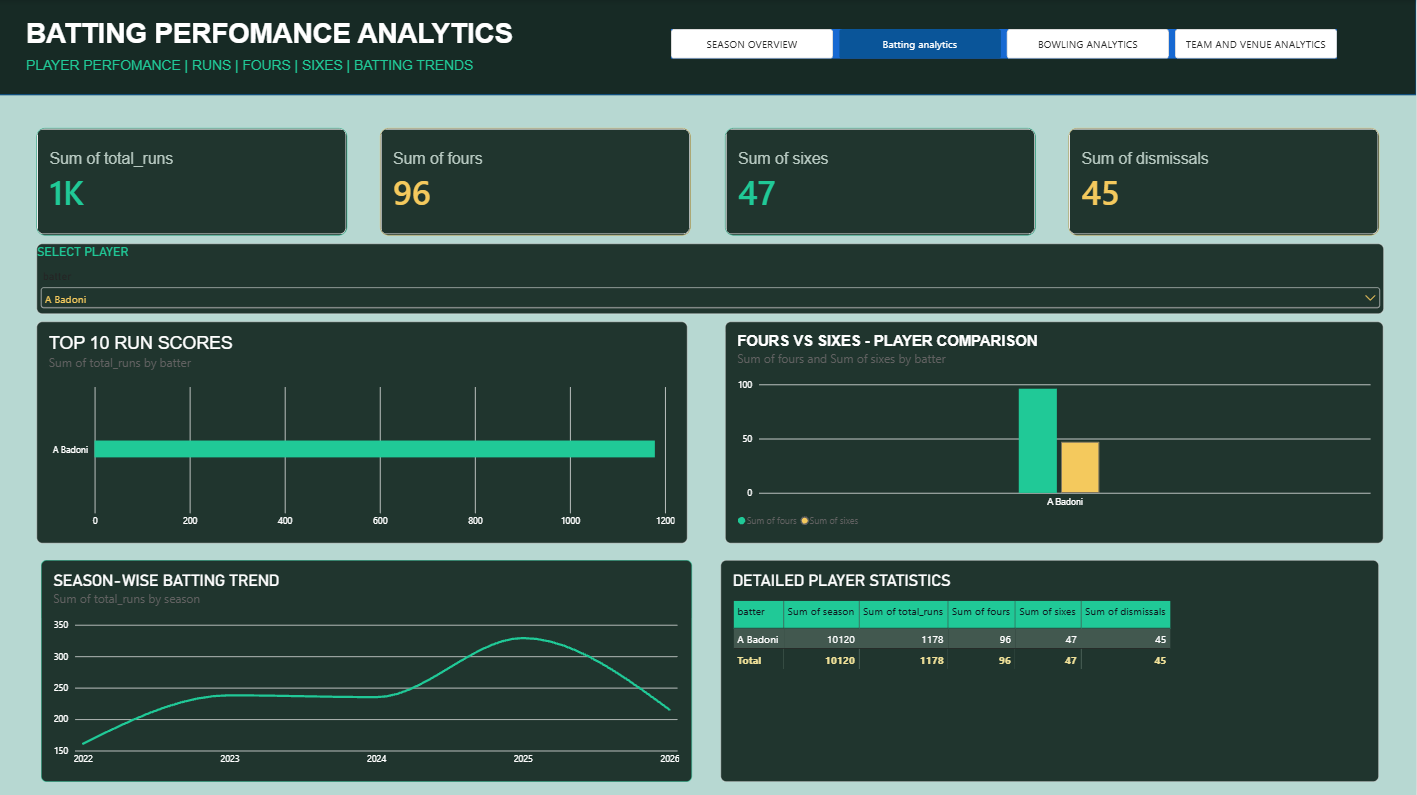

Layout of this report page (visuals, bound fields, positions):
{"tool":"powerbi","page":{"name":"Batting analytics","canvas":[1920,1080],"ordinal":1},"visuals":[{"type":"shape","box":[0,0,1920,130],"z":0},{"type":"textbox","box":[40,25,1000,50],"z":1000},{"type":"textbox","box":[40,80,1000,25],"z":2000},{"type":"cardVisual","fields":{"Data":["Sum(gold_batting_stats.total_runs)"]},"box":[55,175,420,145],"z":3000},{"type":"cardVisual","fields":{"Data":["Sum(gold_batting_stats.fours)"]},"box":[520,175,420,145],"z":4000},{"type":"cardVisual","fields":{"Data":["Sum(gold_batting_stats.sixes)"]},"box":[985,175,420,145],"z":5000},{"type":"cardVisual","fields":{"Data":["Sum(gold_batting_stats.dismissals)"]},"box":[1450,175,420,145],"z":6000},{"type":"clusteredBarChart","title":"TOP 10 RUN SCORES","fields":{"Category":["gold_batting_stats.batter"],"Y":["Sum(gold_batting_stats.total_runs)"]},"box":[54.5,436.1,880,300],"z":7000},{"type":"clusteredColumnChart","title":"FOURS VS SIXES - PLAYER COMPARISON","fields":{"Category":["gold_batting_stats.batter"],"Y":["Sum(gold_batting_stats.fours)","Sum(gold_batting_stats.sixes)"]},"box":[985.7,436.1,890,300],"z":8000},{"type":"lineChart","title":"SEASON-WISE BATTING TREND","fields":{"Category":["gold_batting_stats.season"],"Y":["Sum(gold_batting_stats.total_runs)"]},"box":[61.3,758.6,880,300],"z":9000},{"type":"tableEx","title":"DETAILED PLAYER STATISTICS","fields":{"Values":["gold_batting_stats.batter","Sum(gold_batting_stats.season)","Sum(gold_batting_stats.total_runs)","Sum(gold_batting_stats.fours)","Sum(gold_batting_stats.sixes)","Sum(gold_batting_stats.dismissals)"]},"box":[978.9,758.6,890,300],"z":10000},{"type":"slicer","title":"SELECT PLAYER","fields":{"Values":["gold_batting_stats.batter"]},"box":[54.5,330,1821.6,95.4],"z":11000},{"type":"pageNavigator","box":[912,40,900,40],"z":11001}]}

Visuals, with their boxes in screenshot pixels (x1, y1, x2, y2), scaled from the page's 1920x1080 canvas onto the 1417x795 screenshot:
shape: region(0, 0, 1416, 96)
textbox: region(30, 18, 768, 55)
textbox: region(30, 59, 768, 77)
cardVisual - Sum(gold_batting_stats.total_runs): region(41, 129, 351, 236)
cardVisual - Sum(gold_batting_stats.fours): region(384, 129, 694, 236)
cardVisual - Sum(gold_batting_stats.sixes): region(727, 129, 1037, 236)
cardVisual - Sum(gold_batting_stats.dismissals): region(1070, 129, 1380, 236)
"TOP 10 RUN SCORES" clusteredBarChart: region(40, 321, 690, 542)
"FOURS VS SIXES - PLAYER COMPARISON" clusteredColumnChart: region(727, 321, 1384, 542)
"SEASON-WISE BATTING TREND" lineChart: region(45, 558, 695, 779)
"DETAILED PLAYER STATISTICS" tableEx: region(722, 558, 1379, 779)
"SELECT PLAYER" slicer: region(40, 243, 1385, 313)
pageNavigator: region(673, 29, 1337, 59)
